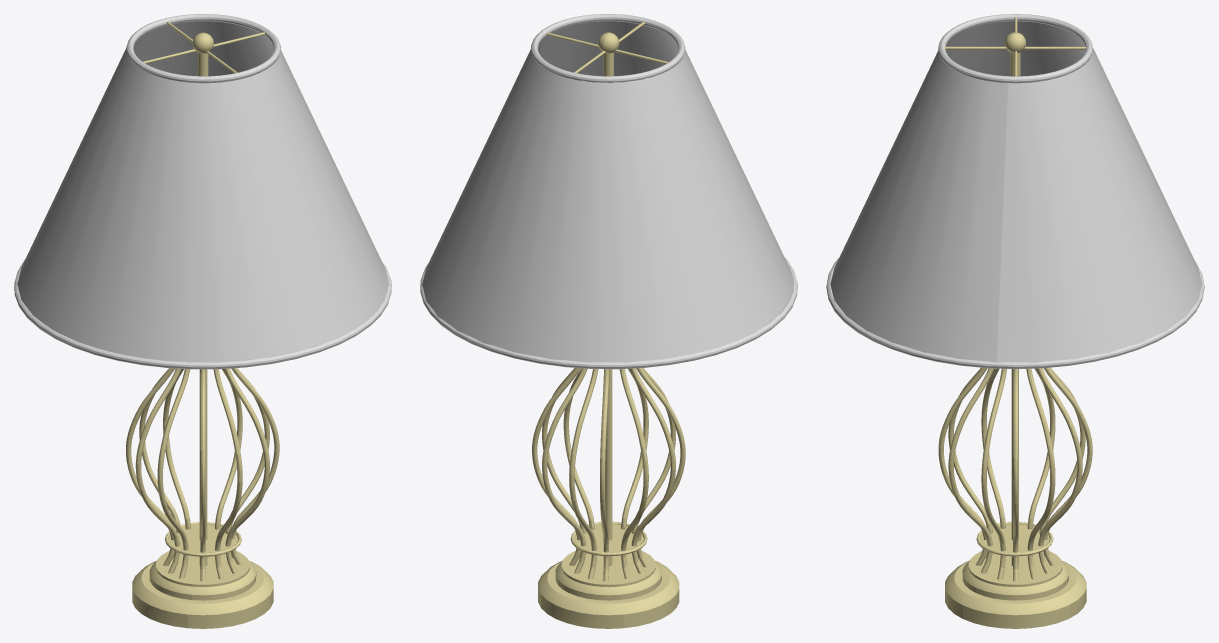
The model's file is lamp2.obj.
The picture shows the model from 3 angles, left to right: view 1: azimuth 30°, elevation 25°; view 2: azimuth 150°, elevation 25°; view 3: azimuth 270°, elevation 25°; orthographic projection.
Visible parts, largest first — view 1: lmp4shd_4_4, lmp4gold_3_3; view 2: lmp4shd_4_4, lmp4gold_3_3; view 3: lmp4shd_4_4, lmp4gold_3_3.
Boxes of the visible parts, bbox=[...] form: lmp4shd_4_4: bbox=[14, 14, 391, 369]; lmp4gold_3_3: bbox=[126, 21, 279, 628]; lmp4shd_4_4: bbox=[420, 14, 797, 369]; lmp4gold_3_3: bbox=[532, 21, 685, 628]; lmp4shd_4_4: bbox=[826, 14, 1204, 369]; lmp4gold_3_3: bbox=[938, 17, 1092, 628].
Size of the model in its own units: 41.6 by 68.64 by 41.6.
